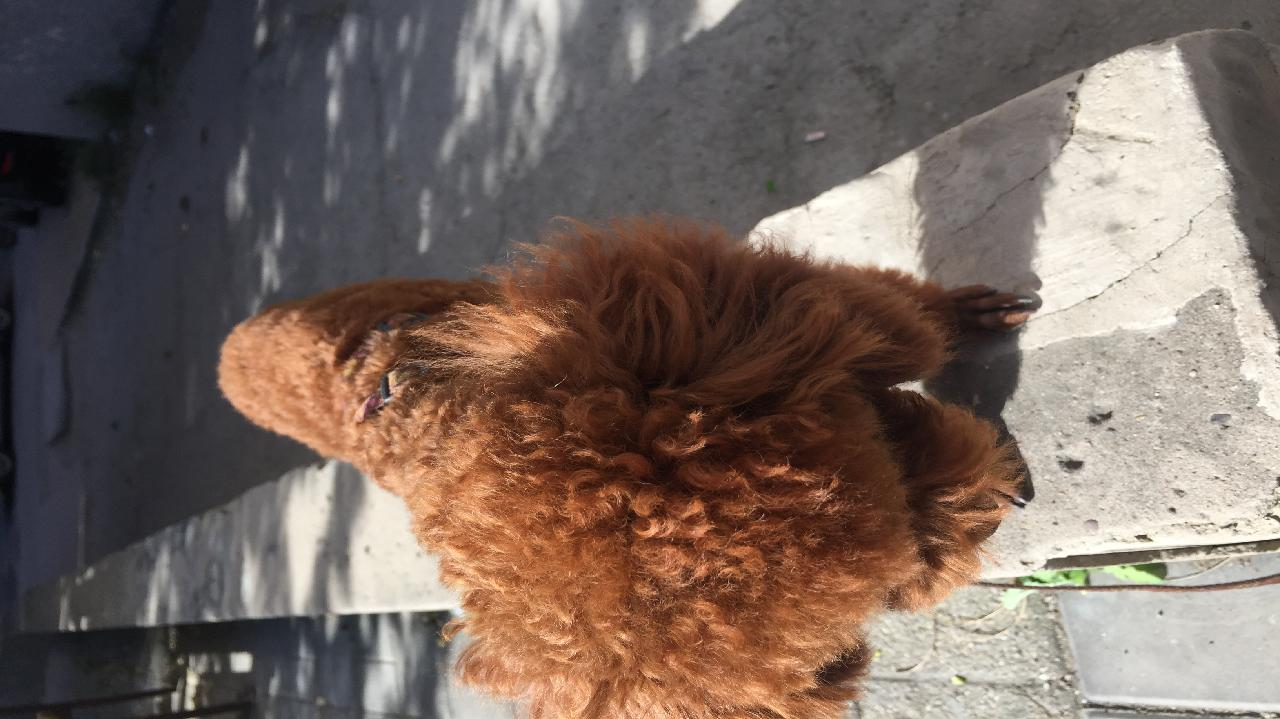coin: (196, 271, 1091, 695)
